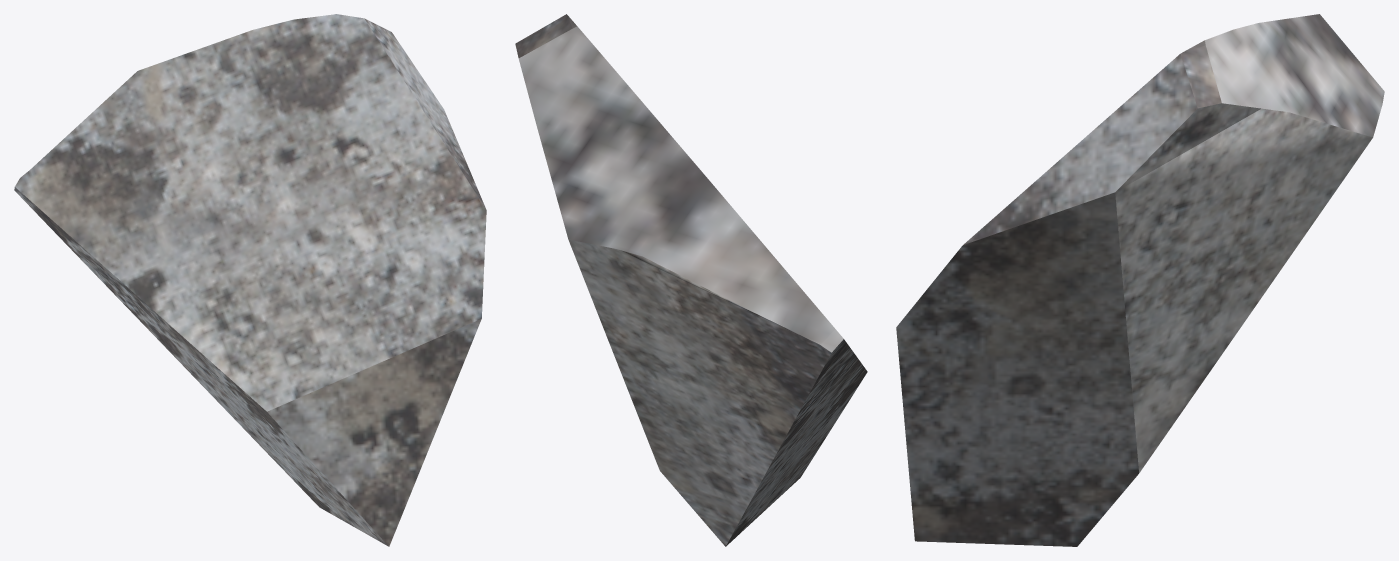
Rendered from Asteroid_Large_001_02_006_03_021.fbx.
3 renders of one model, left to right at view 1: azimuth 30°, elevation 25°; view 2: azimuth 150°, elevation 25°; view 3: azimuth 270°, elevation 25°, orthographic. The views are drawn at different scales.
Parts seen in each view (by area): view 1: Asteroid_Large_001_02_006_03_021; view 2: Asteroid_Large_001_02_006_03_021; view 3: Asteroid_Large_001_02_006_03_021.
Boxes of the visible parts, box(x1,y1,x2,y2) form: Asteroid_Large_001_02_006_03_021: box(14, 14, 486, 546); Asteroid_Large_001_02_006_03_021: box(515, 14, 867, 546); Asteroid_Large_001_02_006_03_021: box(896, 14, 1384, 546).
Size of the model in its own units: 6.21 by 7.68 by 6.2.
